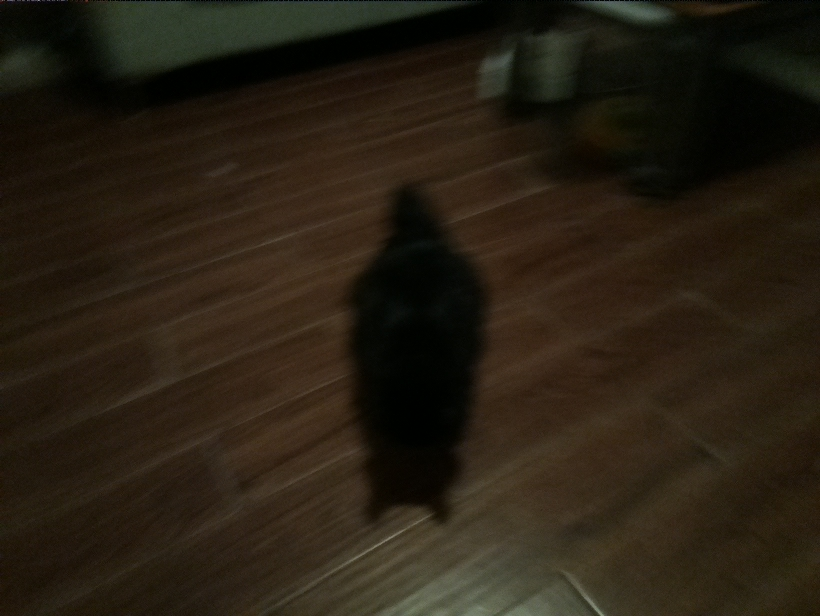cat: (323, 176, 499, 528)
